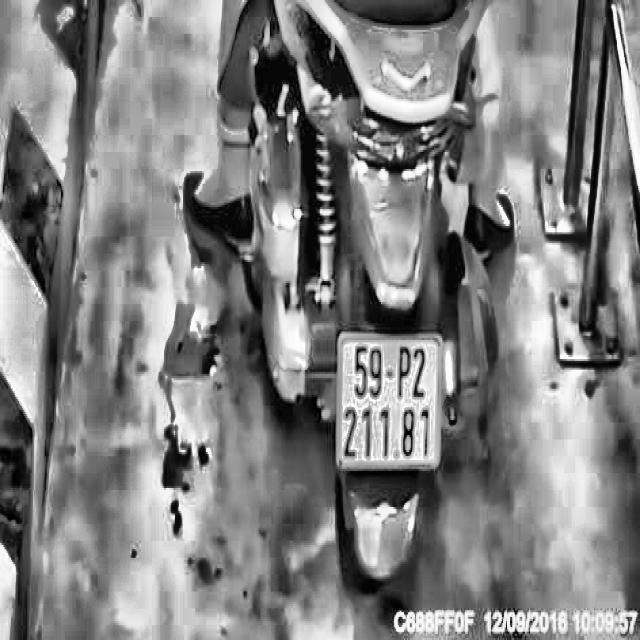plate: (334, 324, 445, 478)
